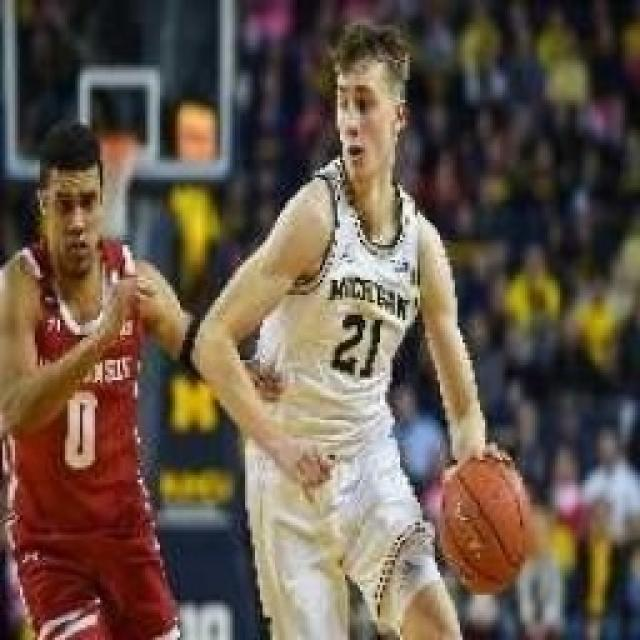rim: (432, 450, 538, 599)
